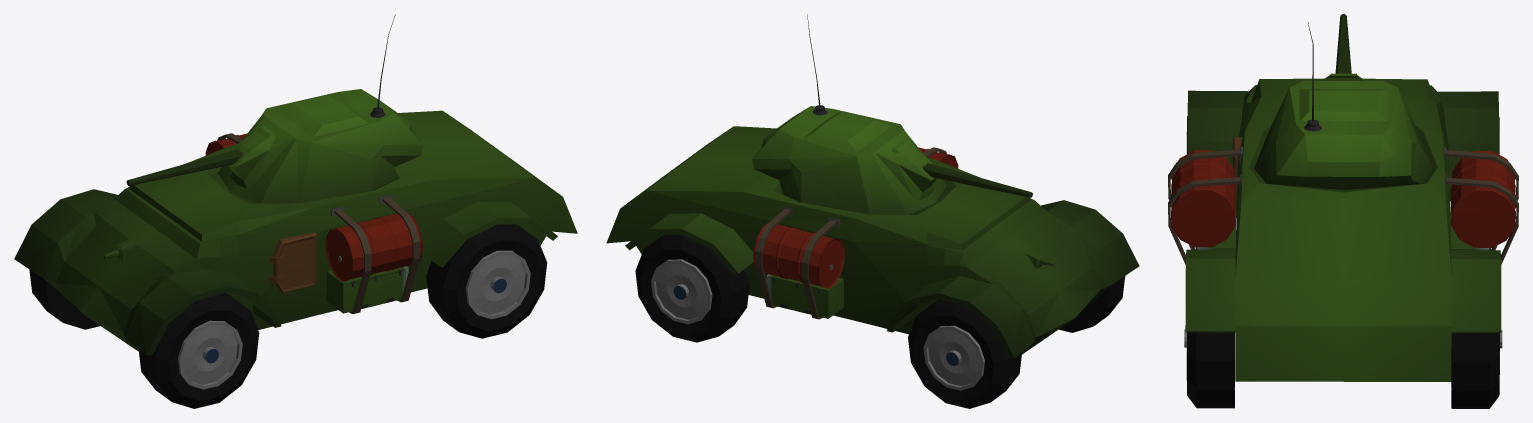
The model's file is Car1.fbx.
3 views of the same model, side by side, from view 1: azimuth 30°, elevation 25°; view 2: azimuth 150°, elevation 25°; view 3: azimuth 270°, elevation 25° (orthographic). The views are drawn at different scales.
Visible parts, largest first — view 1: Cube; view 2: Cube; view 3: Cube.
Boxes of the visible parts, x1,y1,x2,y2 form: Cube: (14, 14, 577, 408); Cube: (606, 14, 1139, 408); Cube: (1168, 14, 1518, 408).
Size of the model in its own units: 423 by 269 by 244.
